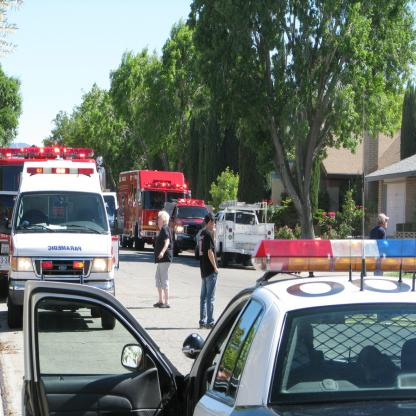Ambulance: (7, 160, 125, 331)
